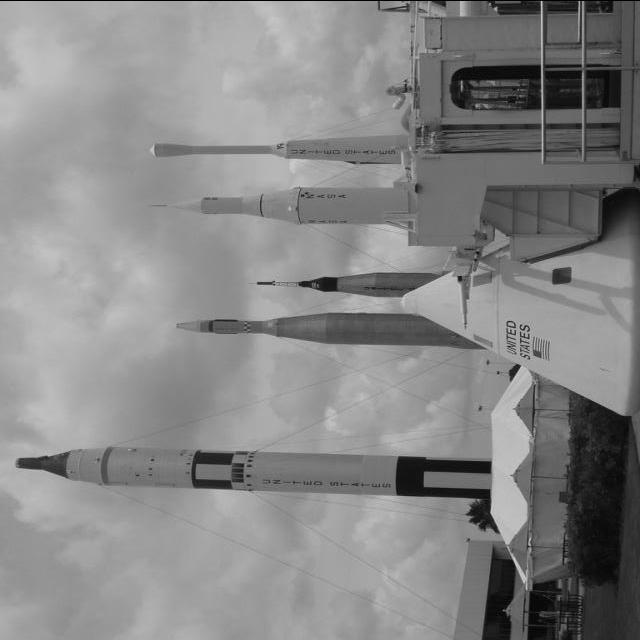missile: (12, 444, 494, 500), (172, 303, 493, 347), (146, 175, 413, 222), (143, 124, 415, 159), (252, 266, 445, 296)
